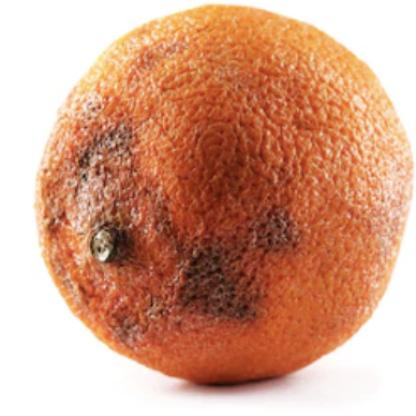rotten: (36, 3, 410, 382)
